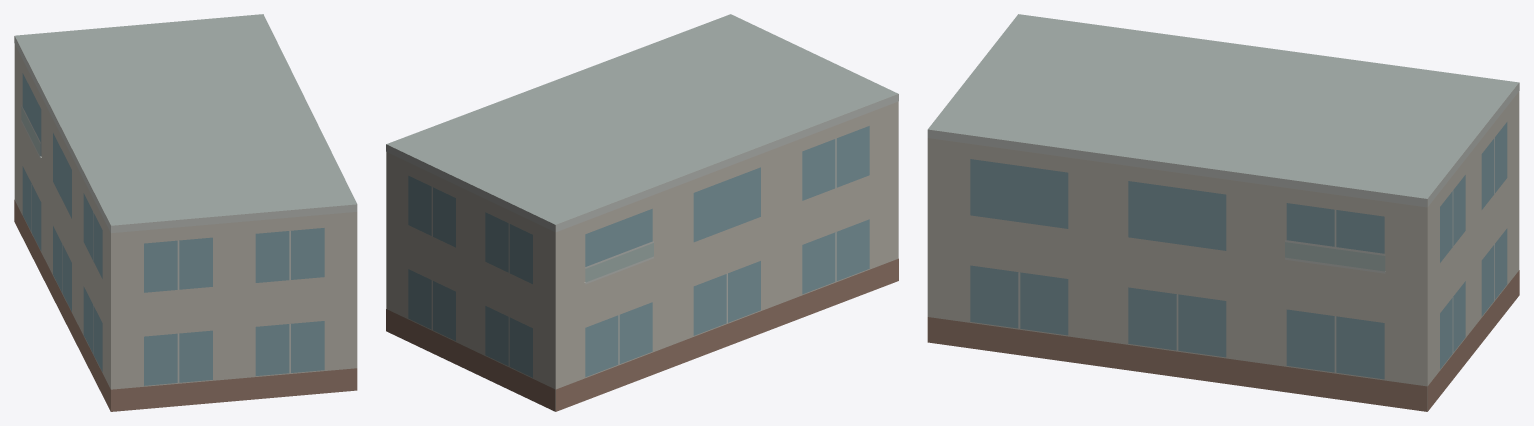
Rendered from survey-upis-32808517.glb.
3 renders of one model, left to right at view 1: azimuth 30°, elevation 25°; view 2: azimuth 150°, elevation 25°; view 3: azimuth 270°, elevation 25°, orthographic. The views are drawn at different scales.
Visible parts, largest first — view 1: survey-upis-32808517.tmp; view 2: survey-upis-32808517.tmp; view 3: survey-upis-32808517.tmp.
Part boxes in pixels (x1,y1,x2,y2): survey-upis-32808517.tmp: [14, 14, 357, 411]; survey-upis-32808517.tmp: [386, 14, 898, 411]; survey-upis-32808517.tmp: [927, 14, 1519, 411].
Size of the model in its own units: 11.37 by 6.1 by 15.38.
